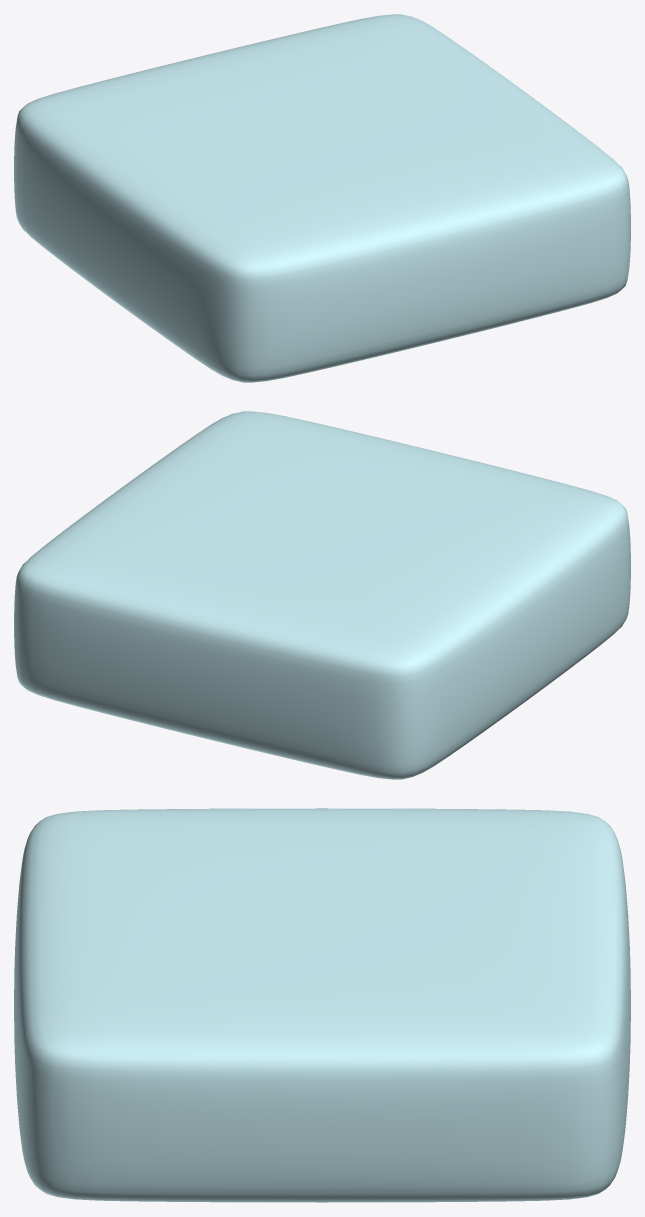
The model's file is FallingPlatform.fbx.
3 views of the same model, one above another, from view 1: azimuth 30°, elevation 25°; view 2: azimuth 150°, elevation 25°; view 3: azimuth 270°, elevation 25° (orthographic). The views are drawn at different scales.
Parts seen in each view (by area): view 1: FallingPlatform; view 2: FallingPlatform; view 3: FallingPlatform.
Boxes of the visible parts, x1=… form: FallingPlatform: x1=14, y1=14, x2=630, y2=382; FallingPlatform: x1=14, y1=411, x2=630, y2=779; FallingPlatform: x1=14, y1=808, x2=630, y2=1202.
Size of the model in its own units: 198 by 59.51 by 198.
